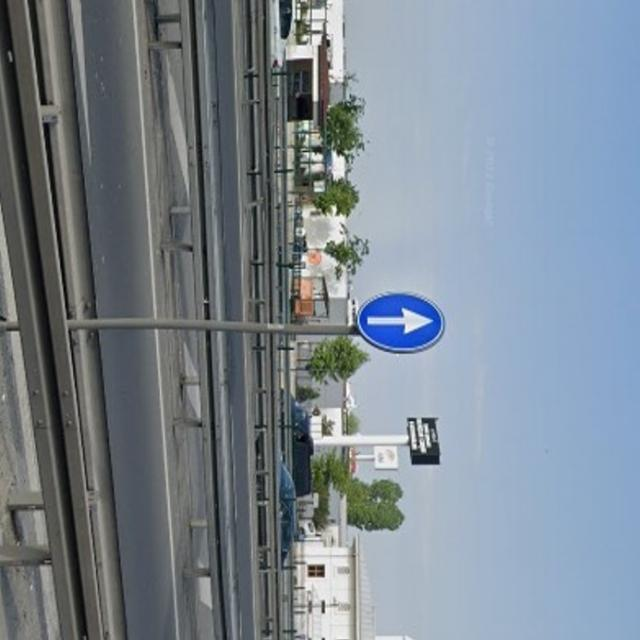Turn Right: (357, 286, 460, 352)
